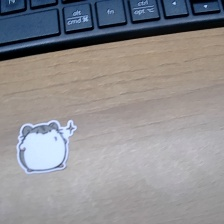mouse: (14, 117, 79, 177)
